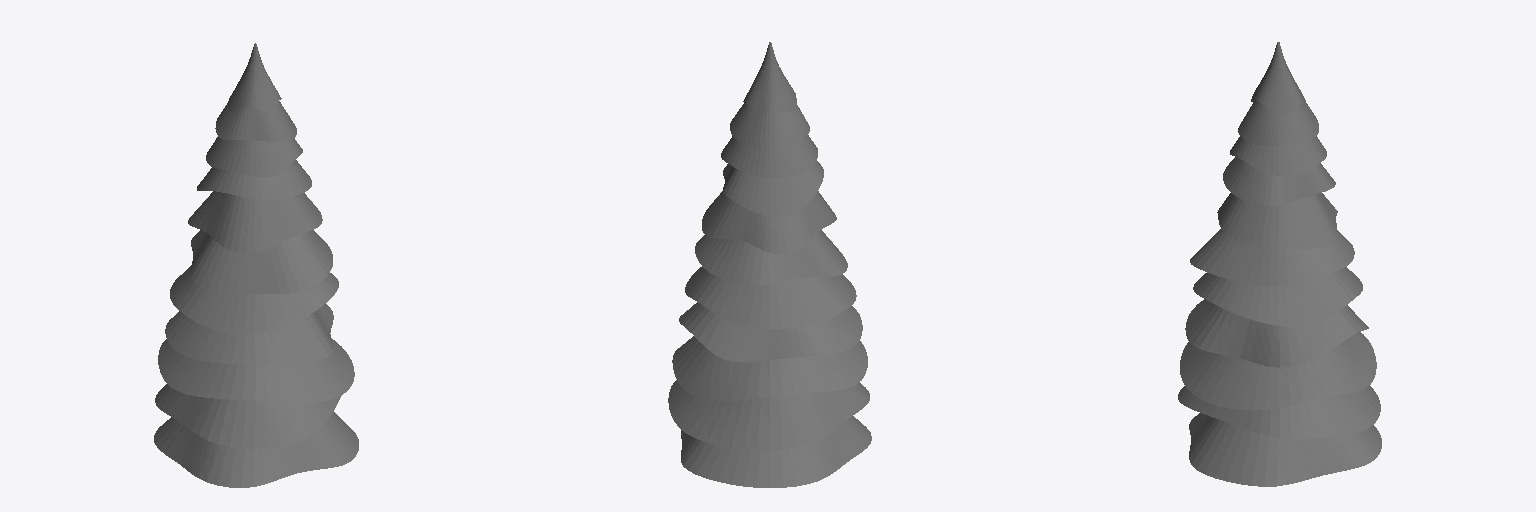
File: PineTree.obj
The picture shows the model from 3 angles: view 1: azimuth 30°, elevation 25°; view 2: azimuth 150°, elevation 25°; view 3: azimuth 270°, elevation 25°; orthographic projection.
Visible parts, largest first — view 1: _Pine_Tree_v1_SG; view 2: _Pine_Tree_v1_SG; view 3: _Pine_Tree_v1_SG.
Part boxes in pixels (left/top/right/bottom): _Pine_Tree_v1_SG: left=154, top=43, right=358, bottom=487; _Pine_Tree_v1_SG: left=668, top=42, right=871, bottom=487; _Pine_Tree_v1_SG: left=1178, top=42, right=1381, bottom=486.
Bounding box in the file's own units: 8.92 × 20.76 × 9.03.